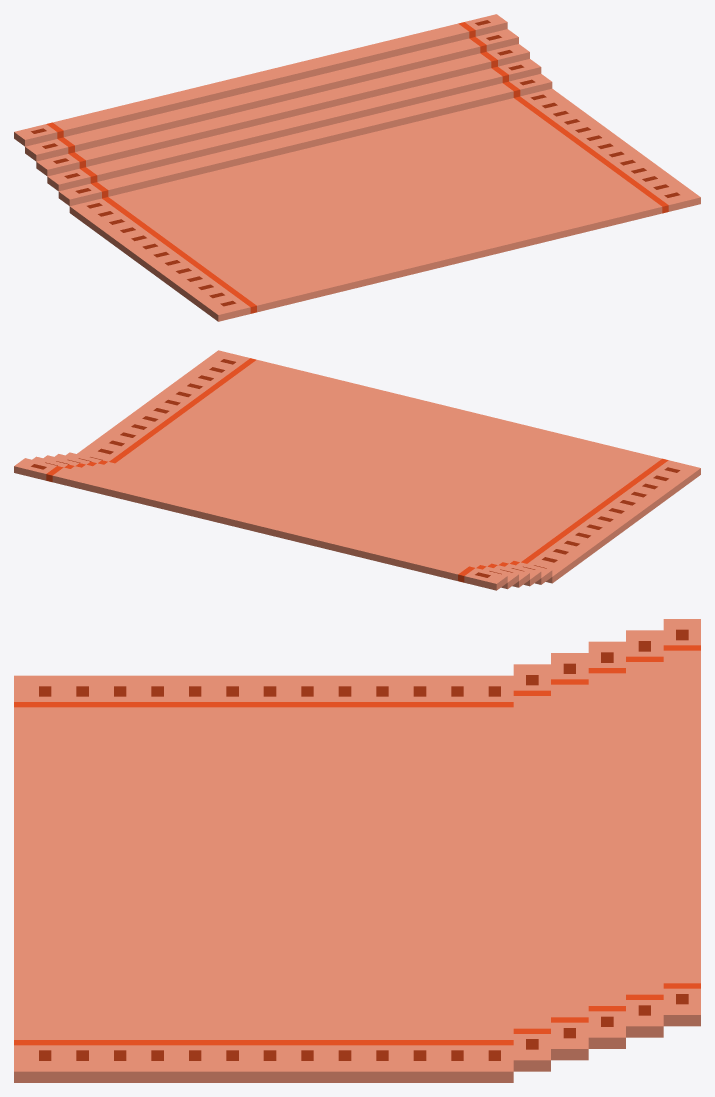
Rendered from ramp-0.obj.
3 renders of one model, top to bottom at view 1: azimuth 30°, elevation 25°; view 2: azimuth 150°, elevation 25°; view 3: azimuth 270°, elevation 25°, orthographic. The views are drawn at different scales.
Parts seen in each view (by area): view 1: ramp-0; view 2: ramp-0; view 3: ramp-0.
Boxes of the visible parts, x1,y1,x2,y2 form: ramp-0: (14, 14, 700, 321); ramp-0: (14, 350, 700, 590); ramp-0: (14, 619, 700, 1082).
Size of the model in its own units: 75 by 6 by 55.
1 material, 1 textured.
